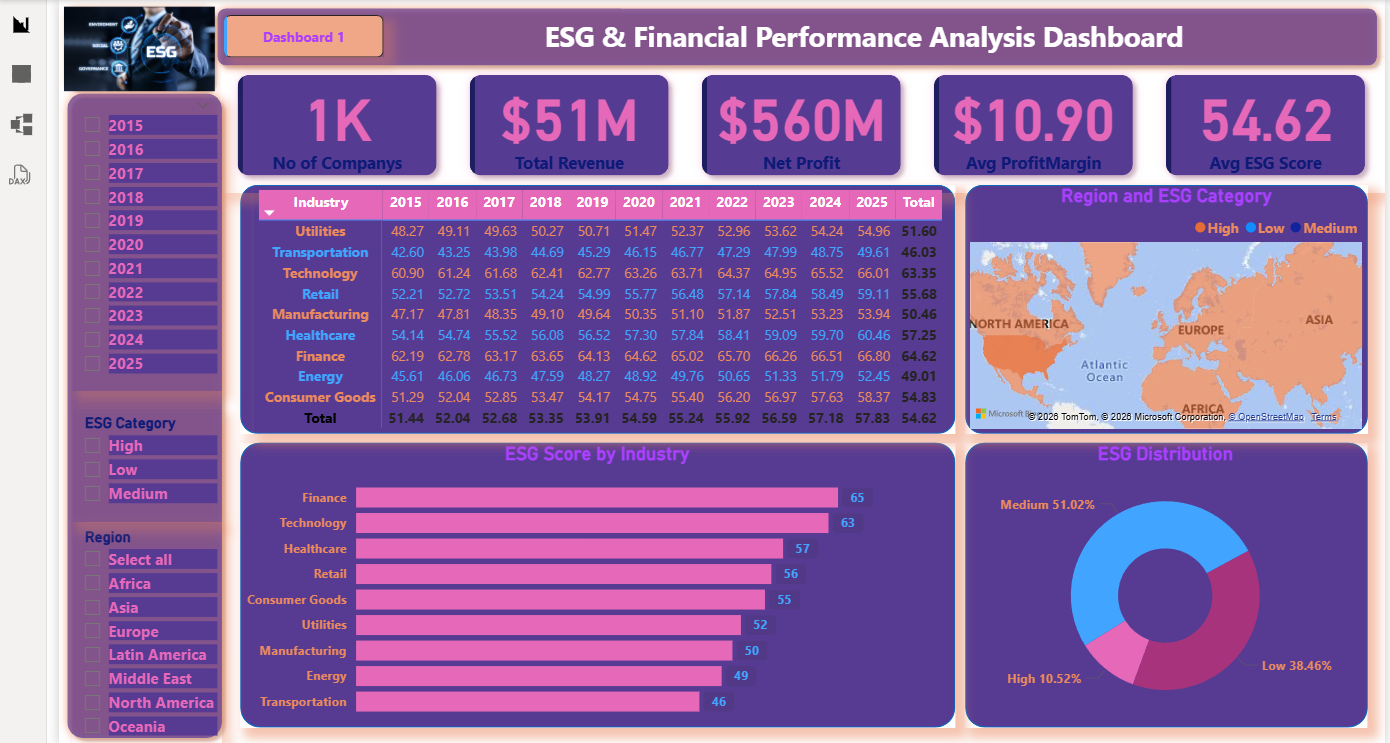

The dashboard page shown, as its layout file describes it:
{"tool":"powerbi","page":{"name":"Dashboard 2","canvas":[1280,720],"ordinal":1},"visuals":[{"type":"shape","box":[174.9,427.1,690.1,275.1],"z":0},{"type":"shape","box":[174.9,178.6,690.1,240.1],"z":1000},{"type":"shape","box":[0,82,165.3,638.2],"z":2000},{"type":"cardVisual","fields":{"Data":["company_financial_dataset.No of Companys","company_financial_dataset.Total Revenue","company_financial_dataset.Net Profit","company_financial_dataset.Avg ProfitMargin","company_financial_dataset.Avg ESG Score"]},"box":[155.6,55.5,1124.4,131.5],"z":3000},{"type":"shape","box":[144.8,0,1135.3,71.2],"z":4000},{"type":"shape","box":[0,0,156.8,94.1],"z":5000},{"type":"slicer","fields":{"Values":["company_financial_dataset.Year"]},"box":[12.6,94.1,146,283.6],"z":7000},{"type":"slicer","fields":{"Values":["company_financial_dataset.Region"]},"box":[12.6,504,146,216.2],"z":8000},{"type":"slicer","fields":{"Values":["company_financial_dataset.ESG Category"]},"box":[12.6,394.5,146,109.5],"z":9000},{"type":"textbox","box":[444,12.1,666,49.5],"z":10000},{"type":"shape","box":[874.7,427.1,388.5,275.1],"z":11000},{"type":"clusteredBarChart","title":"ESG Score by Industry","fields":{"Category":["company_financial_dataset.Industry"],"Y":["company_financial_dataset.Avg ESG Score"]},"box":[175.5,426.8,689.3,275.1],"z":12000},{"type":"shape","box":[874.7,178.6,388.5,240.1],"z":13000},{"type":"pivotTable","fields":{"Rows":["company_financial_dataset.Industry"],"Columns":["company_financial_dataset.Year"],"Values":["company_financial_dataset.Avg ESG Score"]},"box":[188.2,178.6,676.8,240.1],"z":14000},{"type":"filledMap","fields":{"Category":["company_financial_dataset.Region"],"Series":["company_financial_dataset.ESG Category"]},"box":[874.7,178.6,388.5,240.1],"z":15000},{"type":"donutChart","title":"ESG Distribution","fields":{"Y":["CountNonNull(company_financial_dataset.CompanyID)"],"Category":["company_financial_dataset.ESG Category"]},"box":[873.2,426.8,388.9,275.1],"z":16000},{"type":"image","box":[0,0,155.6,94.1],"z":16001},{"type":"pageNavigator","box":[159.3,14.5,154.4,41],"z":16002}]}

Visuals, with their boxes on the page's 1280x720 design canvas (x1, y1, x2, y2). These are canvas units, not pixel positions in the 1390x743 screenshot, which may show the page scaled, cropped or inside an application window:
shape: <region>175, 427, 865, 702</region>
shape: <region>175, 179, 865, 419</region>
shape: <region>0, 82, 165, 720</region>
cardVisual - company_financial_dataset.No of Companys x company_financial_dataset.Total Revenue: <region>156, 56, 1280, 187</region>
shape: <region>145, 0, 1280, 71</region>
shape: <region>0, 0, 157, 94</region>
slicer - company_financial_dataset.Year: <region>13, 94, 159, 378</region>
slicer - company_financial_dataset.Region: <region>13, 504, 159, 720</region>
slicer - company_financial_dataset.ESG Category: <region>13, 394, 159, 504</region>
textbox: <region>444, 12, 1110, 62</region>
shape: <region>875, 427, 1263, 702</region>
"ESG Score by Industry" clusteredBarChart: <region>176, 427, 865, 702</region>
shape: <region>875, 179, 1263, 419</region>
pivotTable - company_financial_dataset.Industry x company_financial_dataset.Year: <region>188, 179, 865, 419</region>
filledMap - company_financial_dataset.Region x company_financial_dataset.ESG Category: <region>875, 179, 1263, 419</region>
"ESG Distribution" donutChart: <region>873, 427, 1262, 702</region>
image: <region>0, 0, 156, 94</region>
pageNavigator: <region>159, 14, 314, 56</region>
